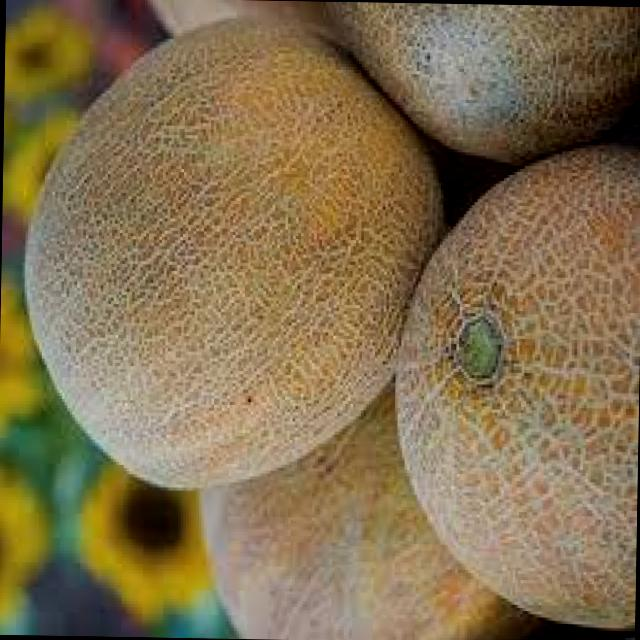cantaloupe: (20, 5, 446, 490)
